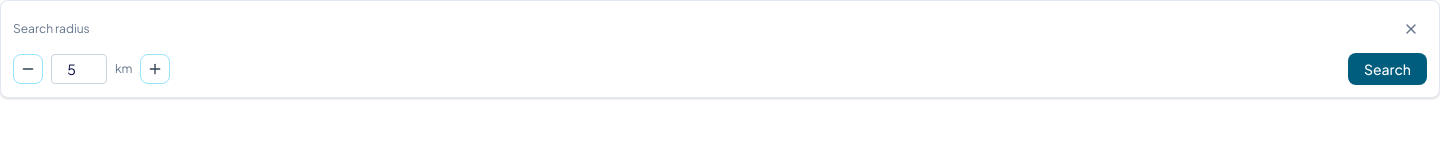
Test: RadiusAdjuster › Expanded stepper › decrements the draft value when the − button is clicked
Click the button named "Decrease radius" at (28, 69), box [13,54,43,84]
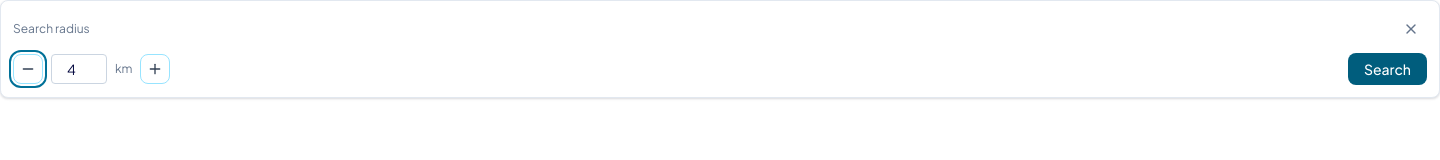
Expected: the number field labelled "Search radius" holds "4", [51,54,107,84]
